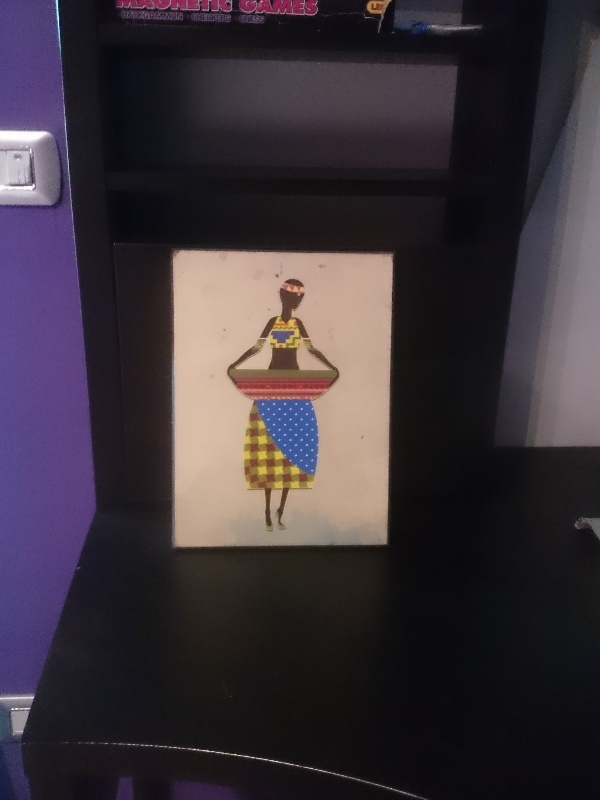my image: (173, 257, 389, 549)
